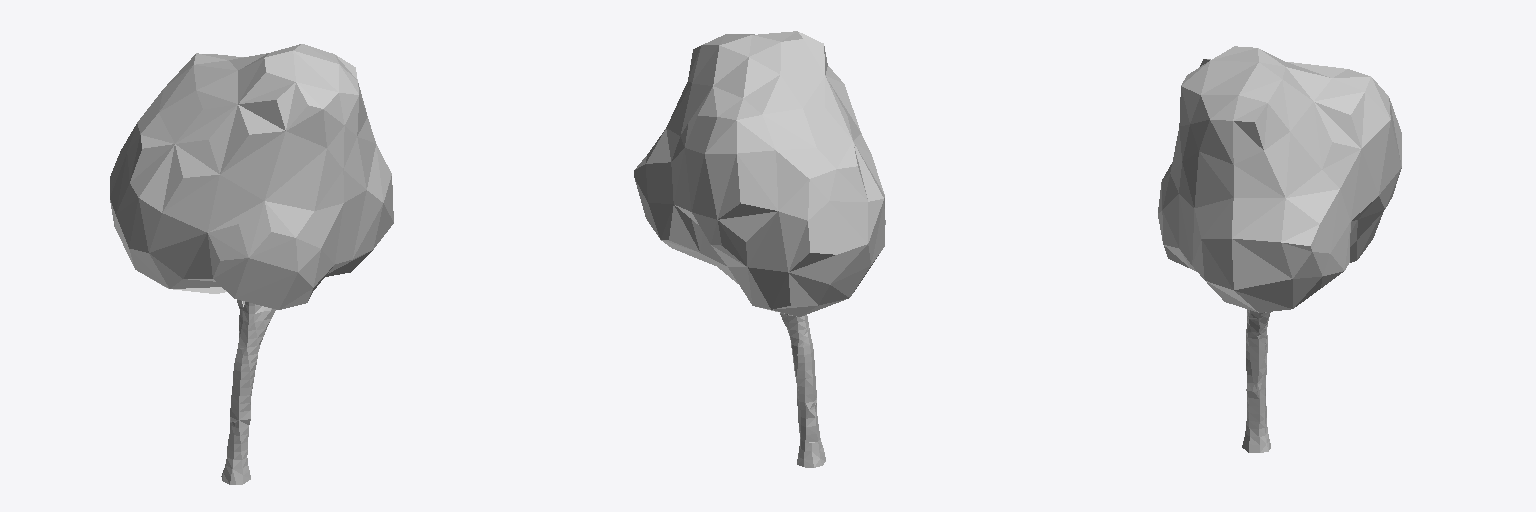
The model's file is tree3.obj.
The picture shows the model from 3 angles: view 1: azimuth 30°, elevation 25°; view 2: azimuth 150°, elevation 25°; view 3: azimuth 270°, elevation 25°; orthographic projection.
Visible parts, largest first — view 1: Tree3_Icosphere.003; view 2: Tree3_Icosphere.003; view 3: Tree3_Icosphere.003.
Boxes of the visible parts, box(x1,y1,x2,y2) form: Tree3_Icosphere.003: box(110, 44, 393, 484); Tree3_Icosphere.003: box(634, 31, 885, 467); Tree3_Icosphere.003: box(1158, 46, 1401, 452).
Size of the model in its own units: 6.1 by 10.03 by 5.38.